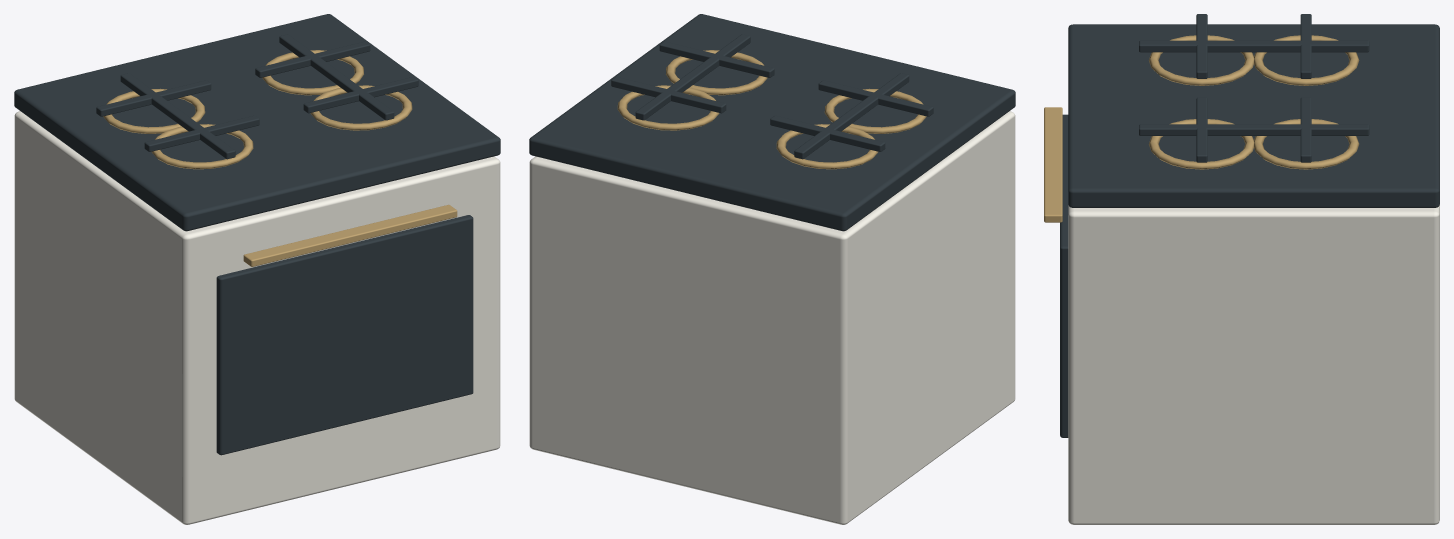
The model's file is stove-8-1.glb.
3 renders of one model, left to right at view 1: azimuth 30°, elevation 25°; view 2: azimuth 150°, elevation 25°; view 3: azimuth 270°, elevation 25°, orthographic. The views are drawn at different scales.
Visible parts, largest first — view 1: upholstery (×2), part; view 2: upholstery (×2), part; view 3: upholstery (×2), part.
Part boxes in pixels (x1=…): upholstery (×2): x1=14, y1=14, x2=500, y2=524; part: x1=103, y1=50, x2=457, y2=266; upholstery (×2): x1=529, y1=14, x2=1015, y2=524; part: x1=617, y1=50, x2=926, y2=169; upholstery (×2): x1=1060, y1=14, x2=1439, y2=524; part: x1=1044, y1=35, x2=1359, y2=222.
Size of the model in its own units: 1 by 1 by 1.
